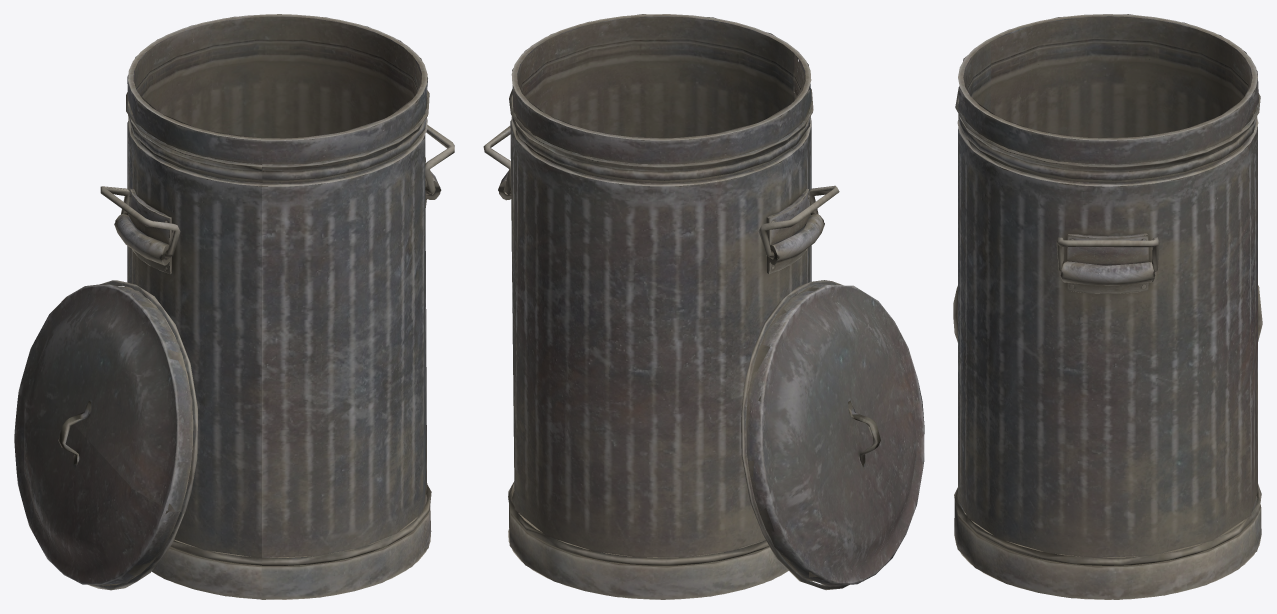
Rendered from bin.glb.
3 views of the same model, side by side, from view 1: azimuth 30°, elevation 25°; view 2: azimuth 150°, elevation 25°; view 3: azimuth 270°, elevation 25° (orthographic).
Visible parts, largest first — view 1: bin; view 2: bin; view 3: bin.
Part boxes in pixels (box(x1,y1,x2,y2)): bin: box(14, 14, 454, 599); bin: box(483, 14, 924, 599); bin: box(953, 14, 1262, 599).
Size of the model in its own units: 0.7773 by 0.9062 by 0.5555.
Materials: 1 (1 with a texture image).
